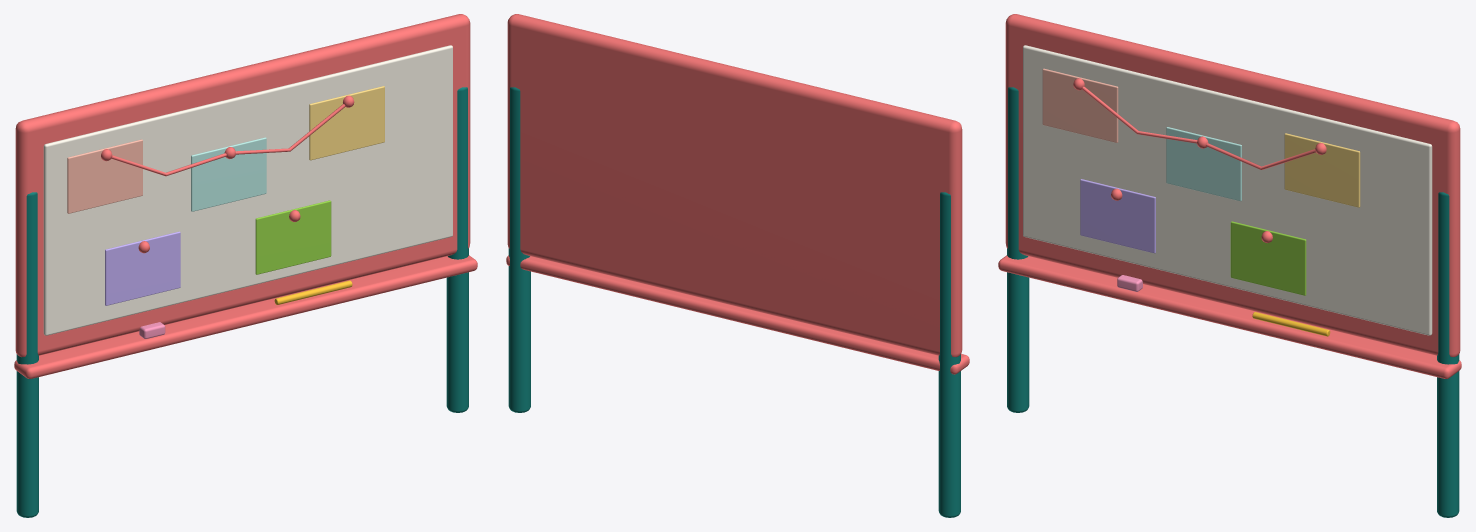
File: BenchPlanner.fbx
The picture shows the model from 3 angles, left to right: view 1: azimuth 30°, elevation 25°; view 2: azimuth 150°, elevation 25°; view 3: azimuth 330°, elevation 25°; orthographic projection.
Parts seen in each view (by area): view 1: BenchPlanner mesh; view 2: BenchPlanner mesh; view 3: BenchPlanner mesh.
Part boxes in pixels (left/top/right/bottom): BenchPlanner mesh: left=14, top=14, right=477, bottom=517; BenchPlanner mesh: left=506, top=14, right=969, bottom=517; BenchPlanner mesh: left=998, top=14, right=1461, bottom=517.
Bounding box in the file's own units: 0.84 × 0.7 × 0.056.
